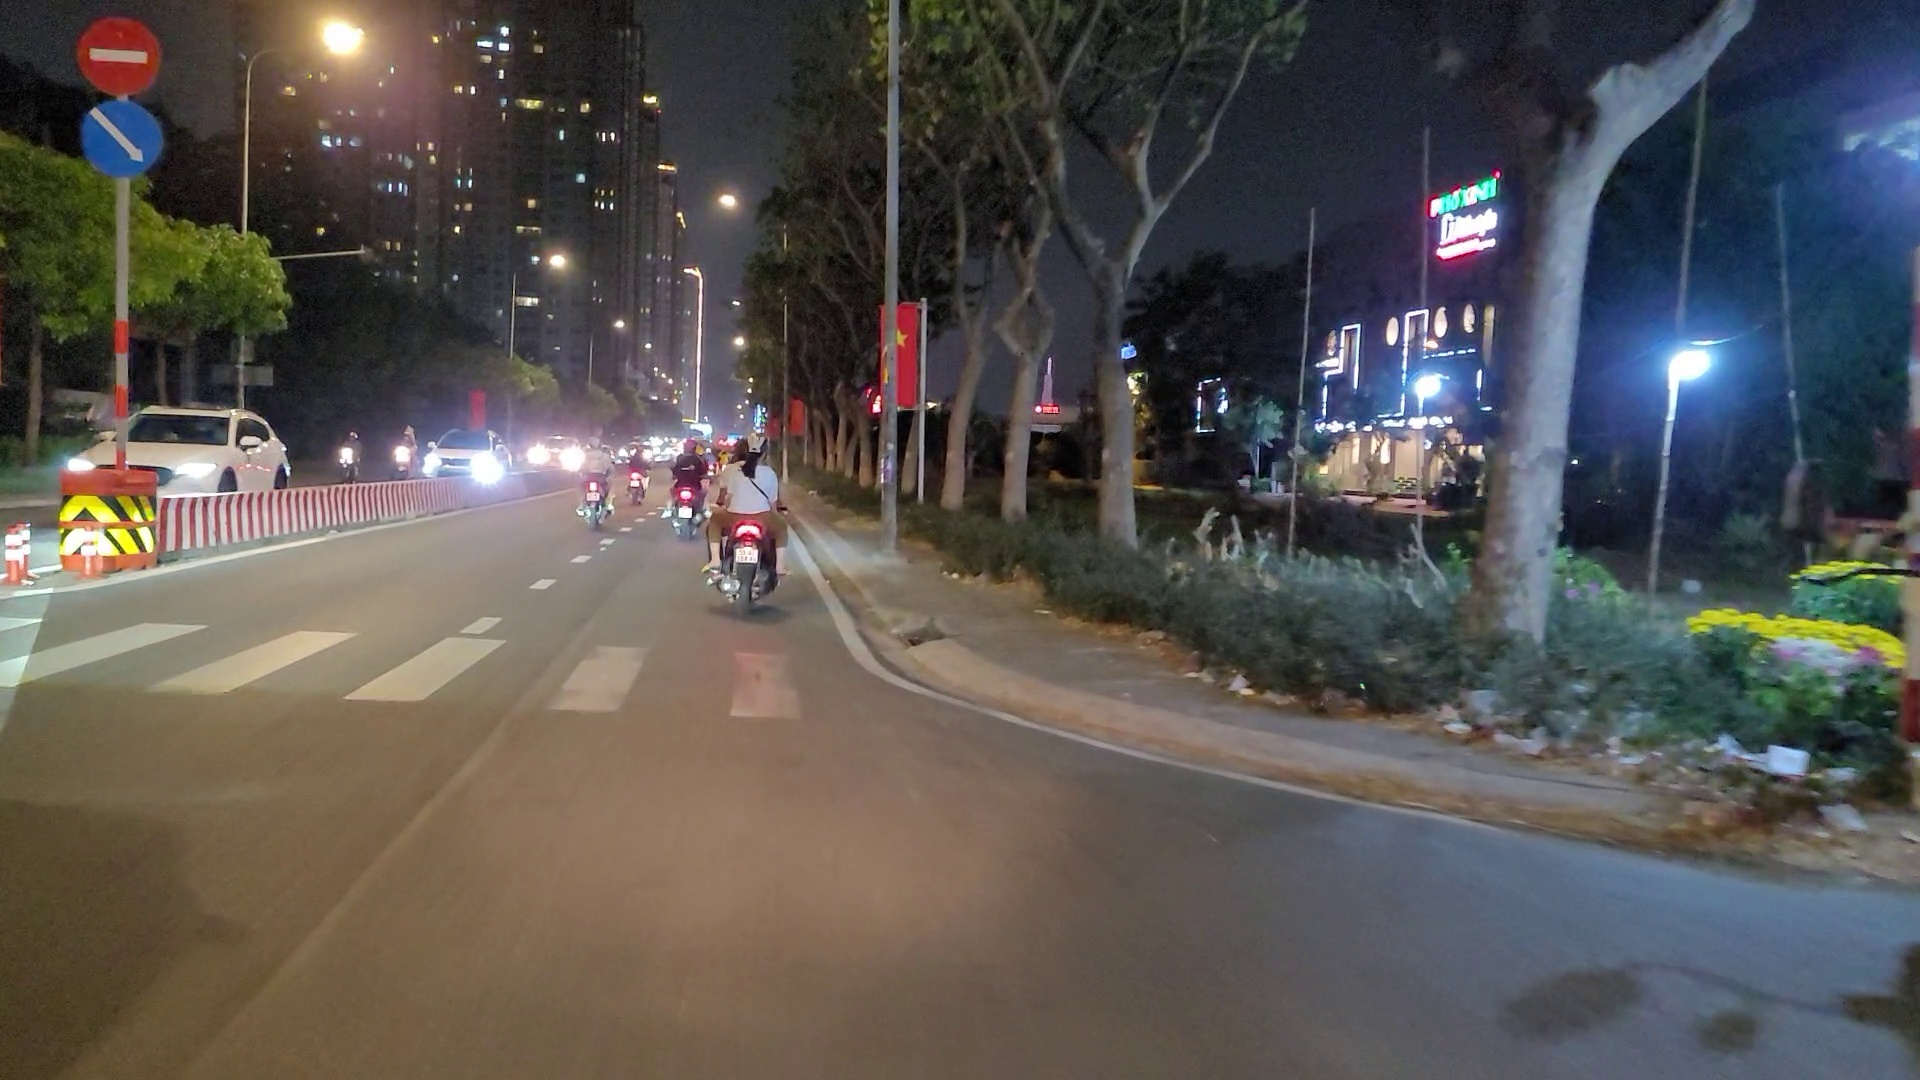Cam di nguoc chieu: (76, 15, 160, 96)
Huong di phai re phai: (79, 98, 165, 175)
